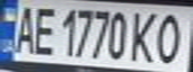0: (106, 7, 130, 62)
1: (54, 3, 78, 57)
7: (90, 6, 112, 60), (72, 5, 93, 57)
A: (9, 1, 39, 55)
E: (30, 2, 60, 56)
K: (127, 8, 160, 64)
O: (151, 8, 190, 65)
